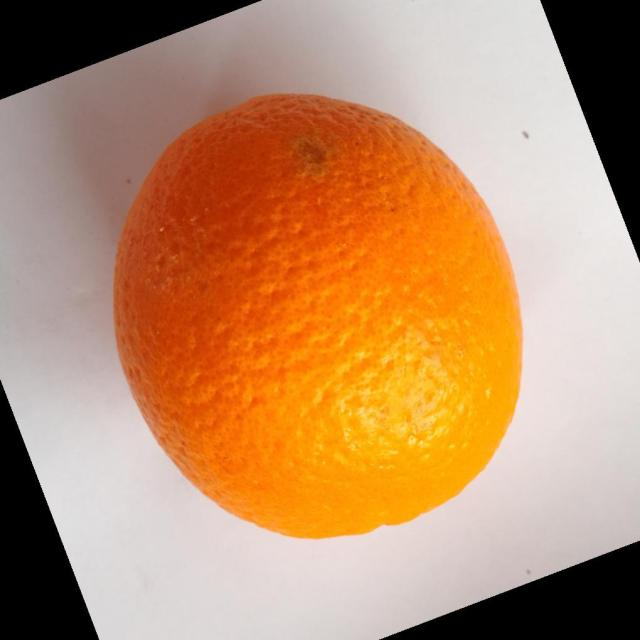fresh orange: (111, 90, 524, 540)
